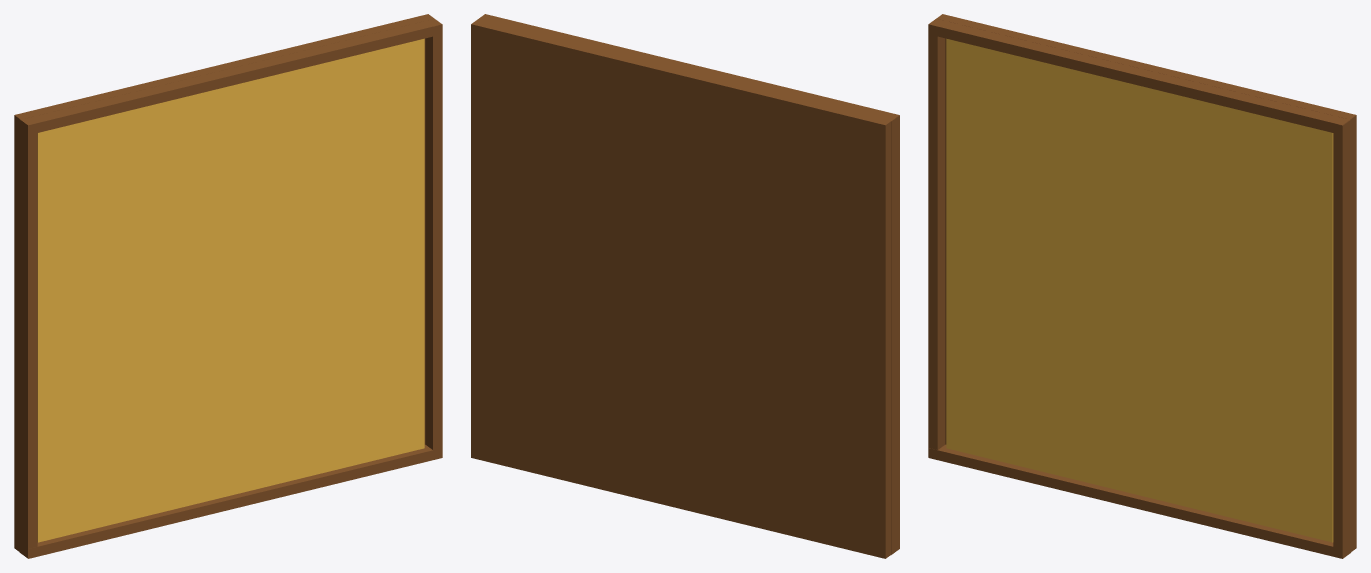
Rendered from mustard_painting.obj.
3 renders of one model, left to right at view 1: azimuth 30°, elevation 25°; view 2: azimuth 150°, elevation 25°; view 3: azimuth 330°, elevation 25°, orthographic.
Visible parts, largest first — view 1: polySurface11; view 2: polySurface11; view 3: polySurface11.
Boxes of the visible parts, box(x1,y1,x2,y2) form: polySurface11: box(14, 14, 442, 558); polySurface11: box(471, 14, 899, 558); polySurface11: box(928, 14, 1356, 558).
Bounding box in the file's own units: 0.5742 × 0.5741 × 0.0339.
